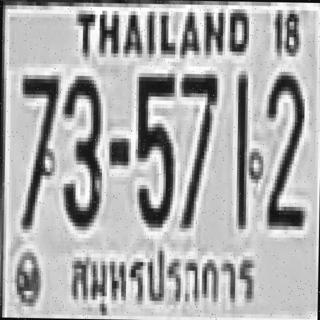N01: (233, 71, 248, 225)
N02: (263, 71, 304, 226)
N03: (60, 71, 101, 226)
N05: (134, 69, 174, 224)
N07: (18, 70, 58, 226), (178, 70, 216, 225), (19, 71, 59, 175)
P57: (65, 234, 258, 320)
